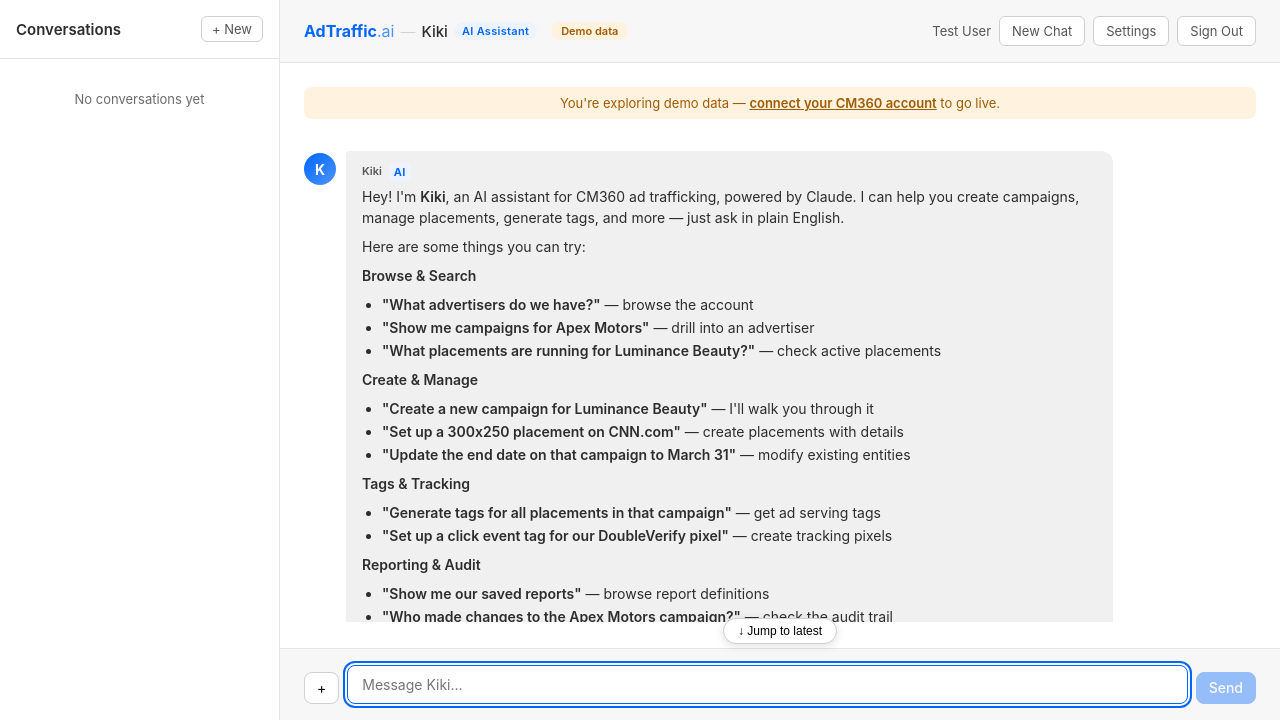
Test: Chat Code Block Copy › copies code to clipboard when copy button clicked
Type "Show me a tag" into the text box with placeholder "Message Kiki..." at [768, 684], box [347,665,1188,704]
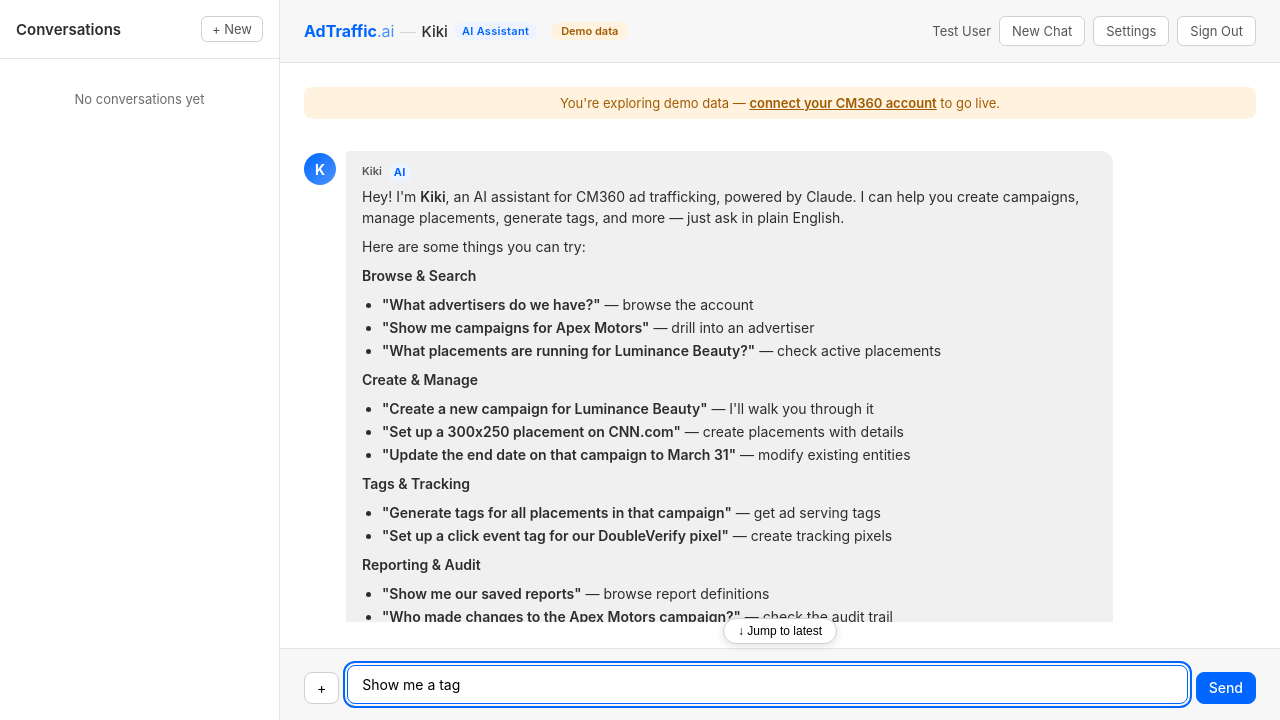
Click the button "Send" at [1226, 688], box [1196,672,1256,704]
(page scrolled)
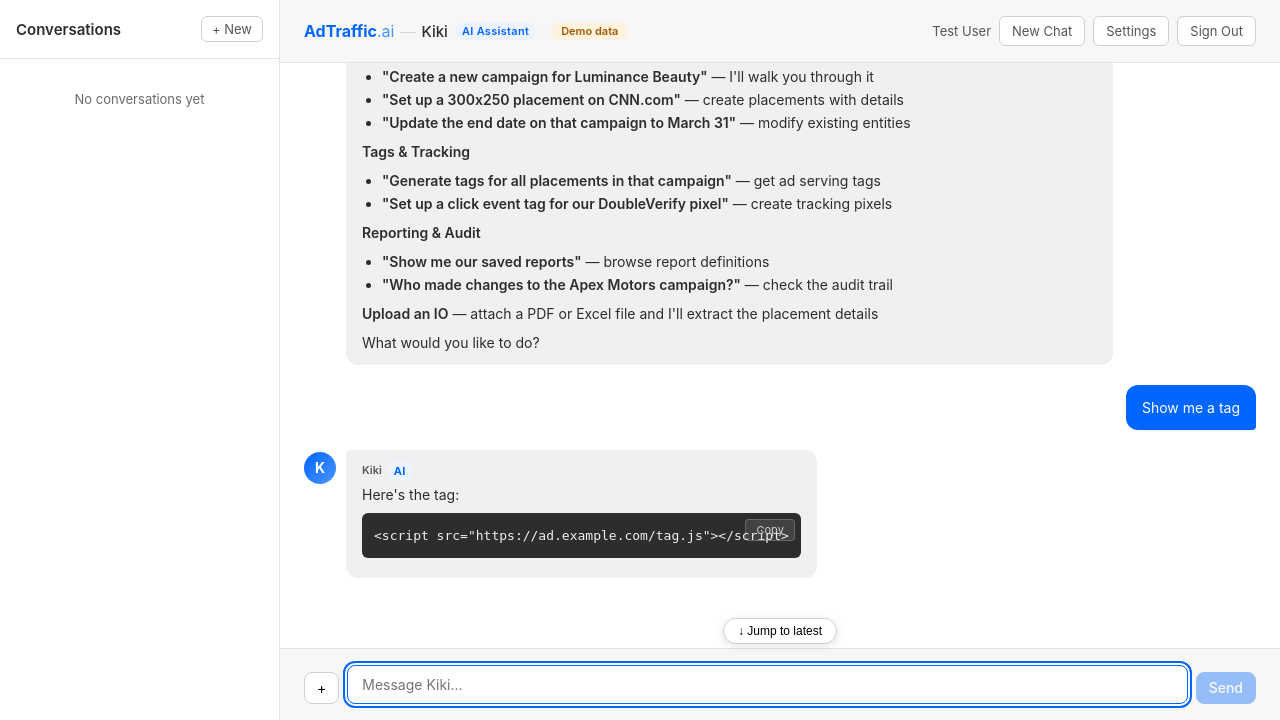
Click the button with aria-label "Copy code" at [770, 530], box [746,519,795,541]
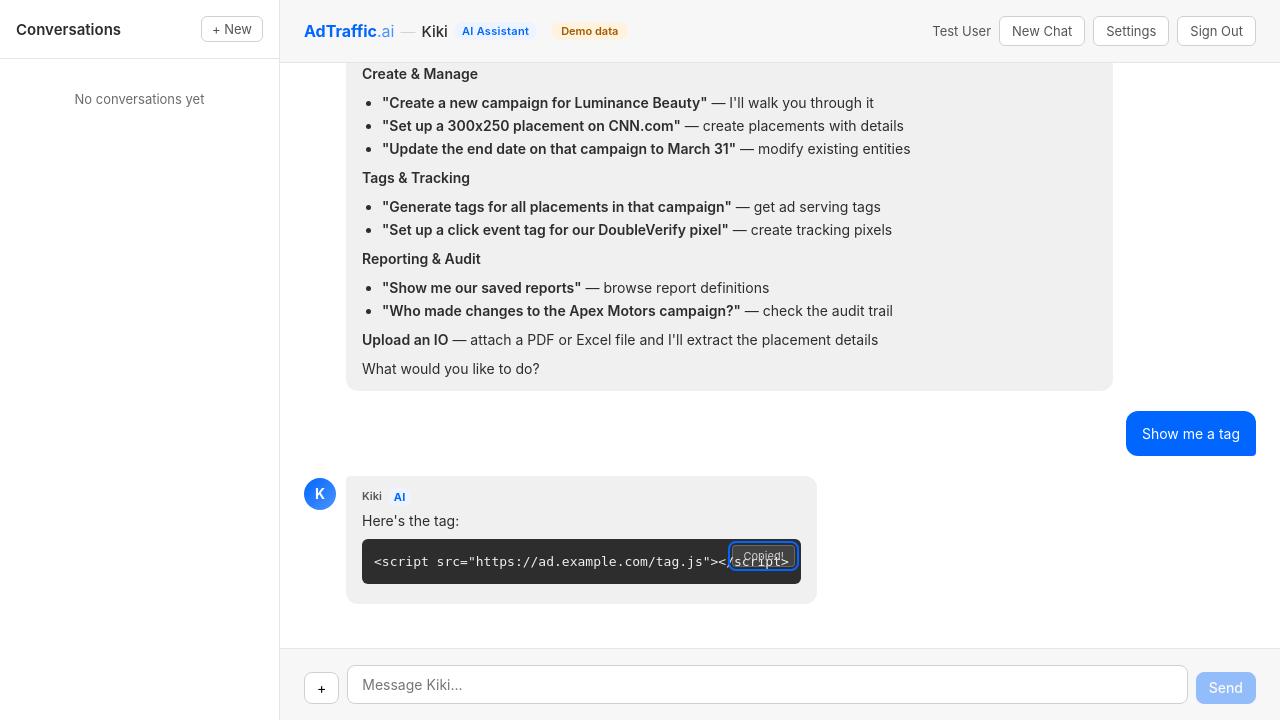
Now the button with aria-label "Copy code" reads "Copied!", box [732,545,795,567]
